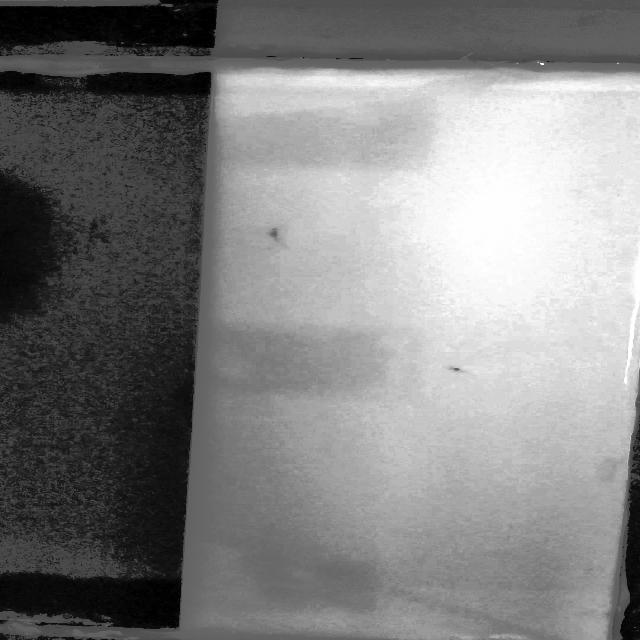shrimp: (438, 361, 489, 376), (260, 226, 294, 246)
